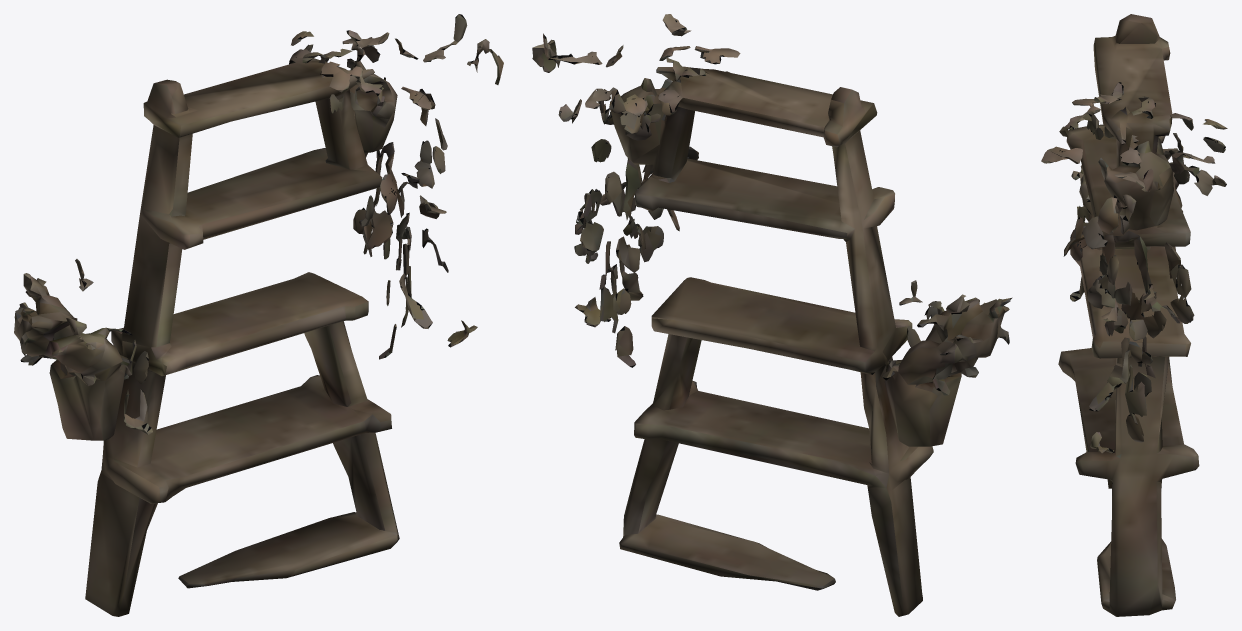
File: ornate-wood-ladder-v001.glb
The picture shows the model from 3 angles, left to right: view 1: azimuth 30°, elevation 25°; view 2: azimuth 150°, elevation 25°; view 3: azimuth 270°, elevation 25°; orthographic projection.
Parts seen in each view (by area): view 1: ornate-wood-ladder; view 2: ornate-wood-ladder; view 3: ornate-wood-ladder.
Boxes of the visible parts, <box> form: ornate-wood-ladder: <box>14,14,503,616</box>; ornate-wood-ladder: <box>532,14,1012,616</box>; ornate-wood-ladder: <box>1041,14,1227,616</box>.
Size of the model in its own units: 2.2 by 2.29 by 0.7536.
Materials: 1 (1 with a texture image).
